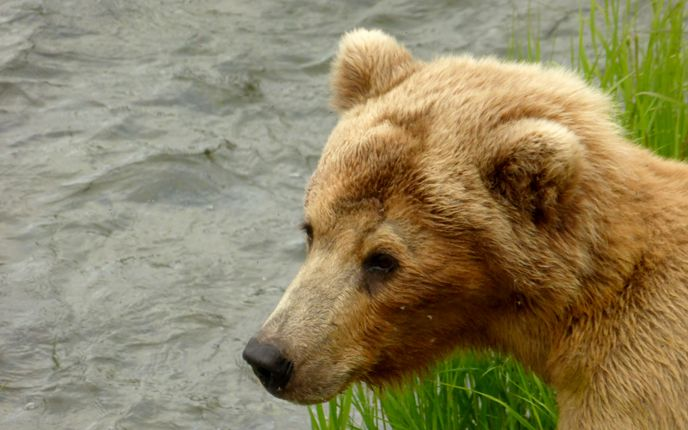bear: (239, 24, 594, 409)
